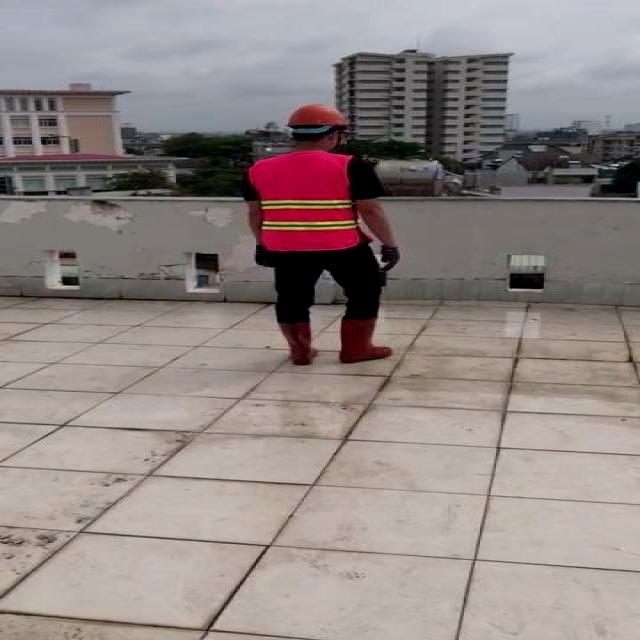boots: (340, 316, 391, 362), (278, 321, 316, 366)
hand_glove: (375, 244, 400, 269), (252, 245, 272, 269)
head_helmet: (287, 102, 351, 127)
person: (242, 100, 405, 368)
vest: (254, 153, 354, 250)
